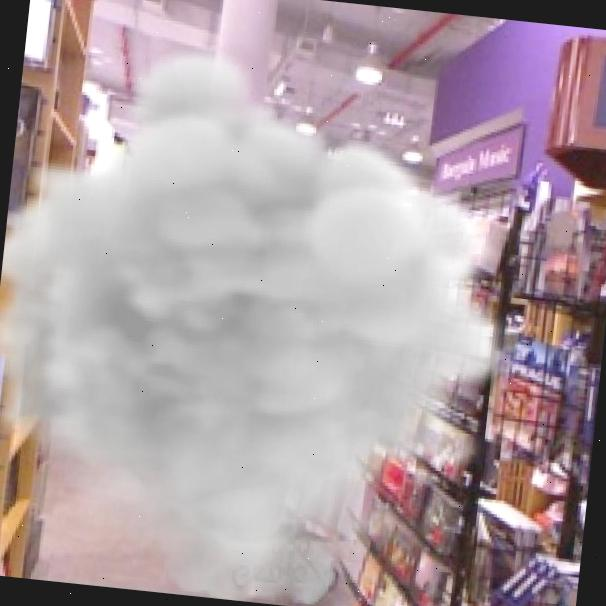smoke: (0, 23, 540, 606)
